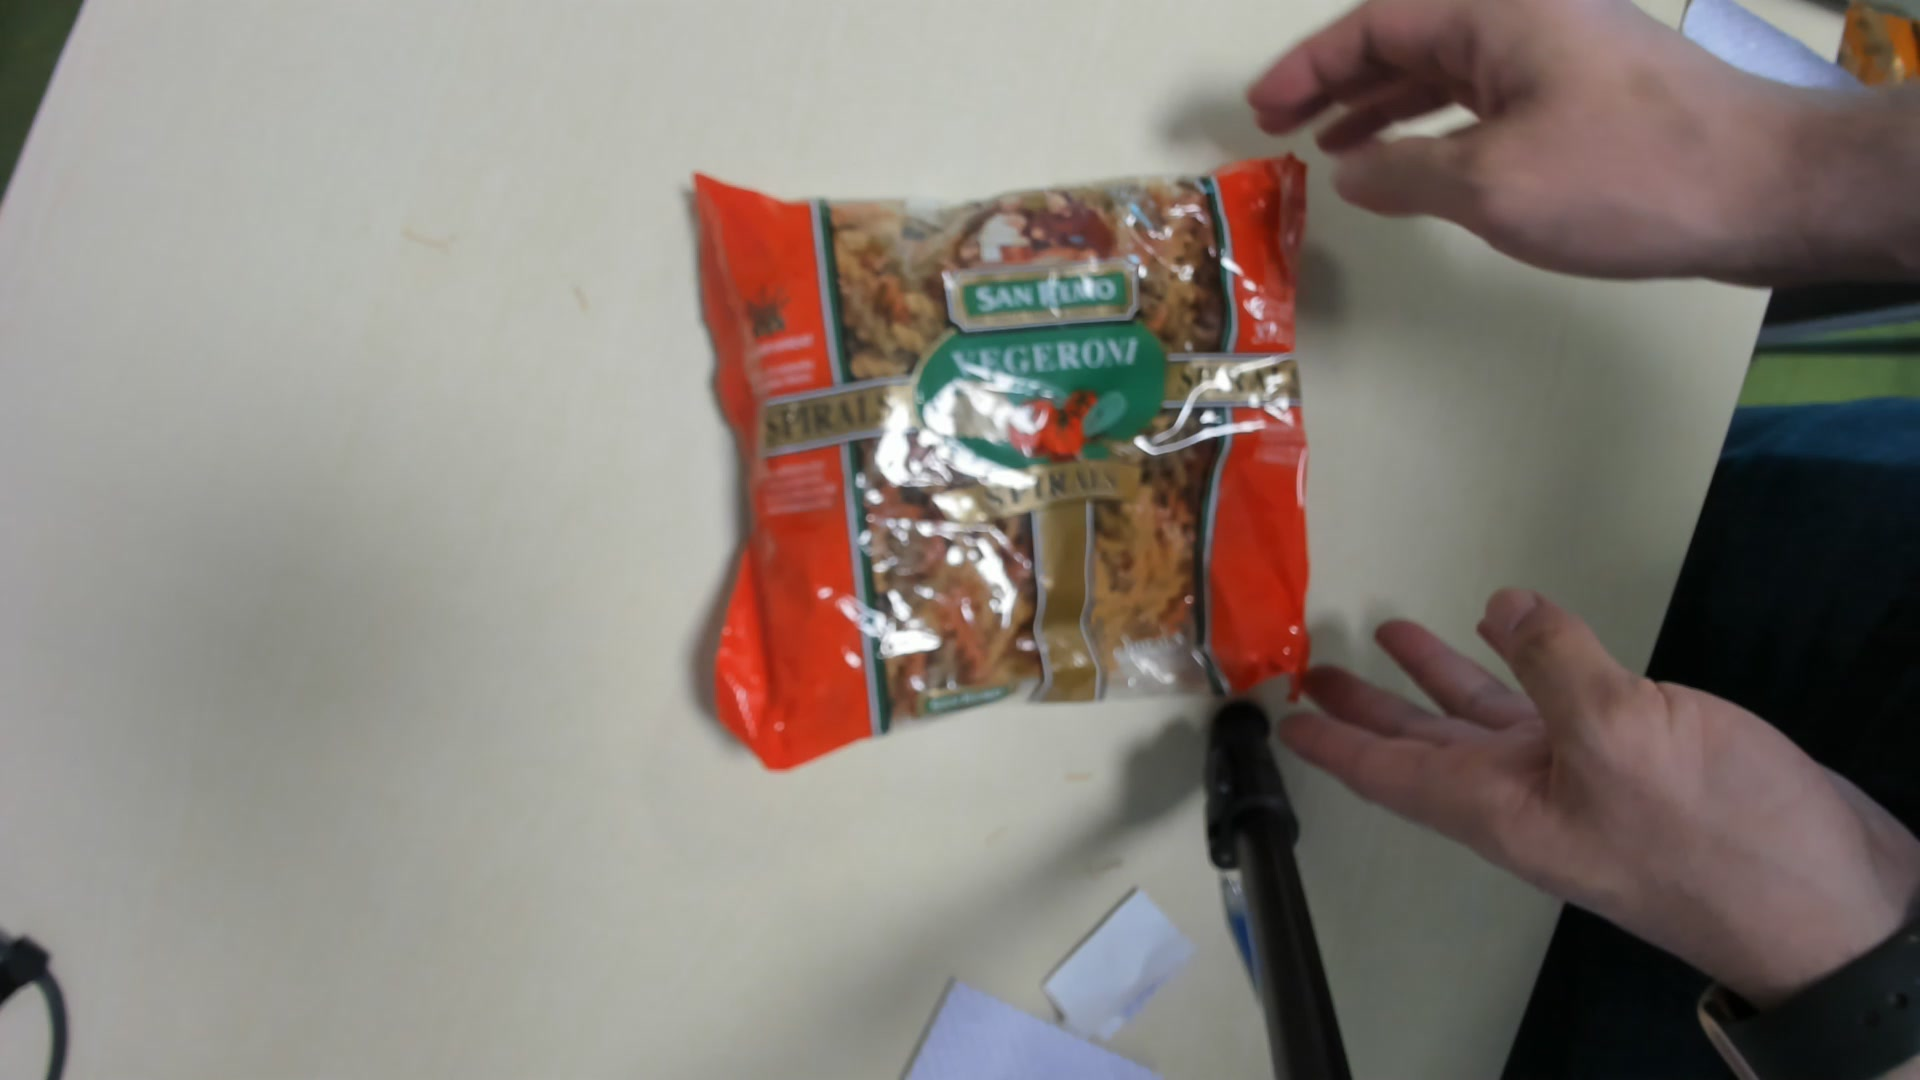Pasta_400-499g_Halal_NonHealthy: (684, 167, 1315, 756)
